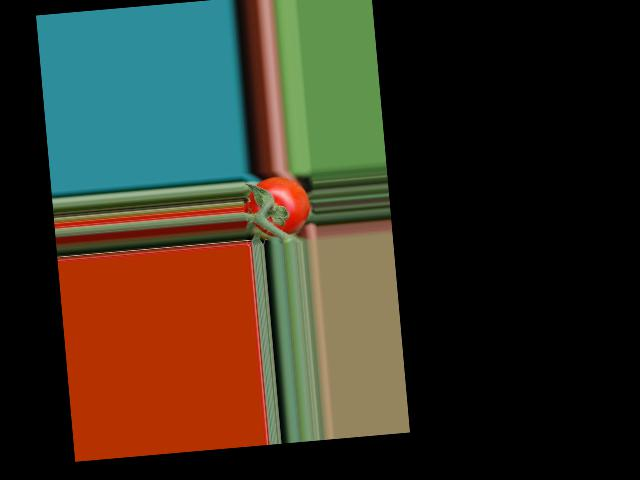tomato: (242, 174, 311, 239)
